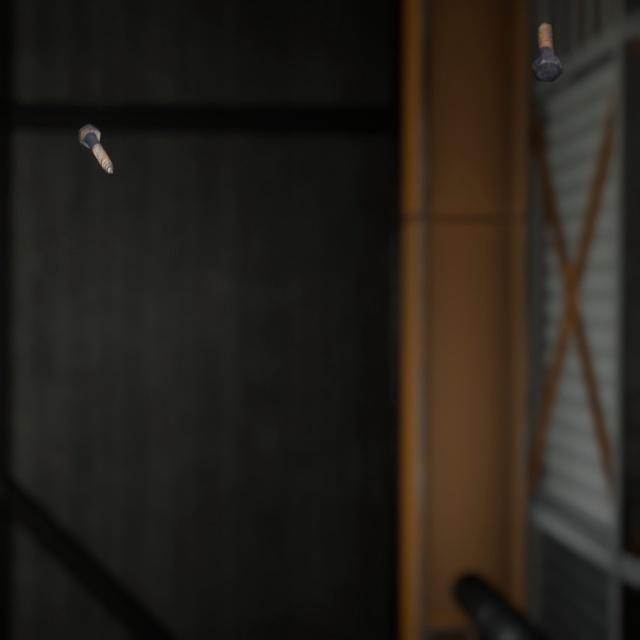bolt: (527, 9, 566, 76), (73, 107, 118, 164)
